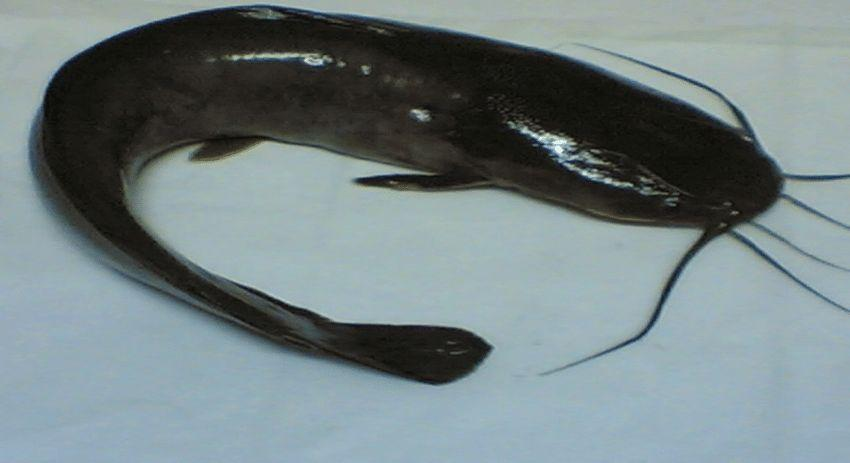Catfish: (28, 3, 793, 384)
